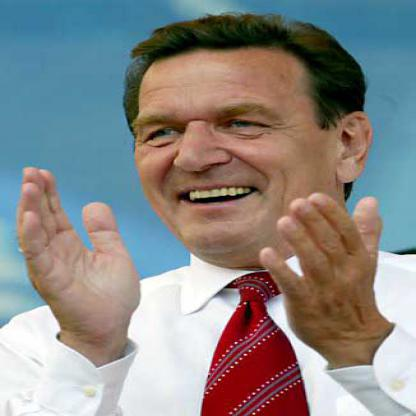face: (125, 32, 343, 258)
